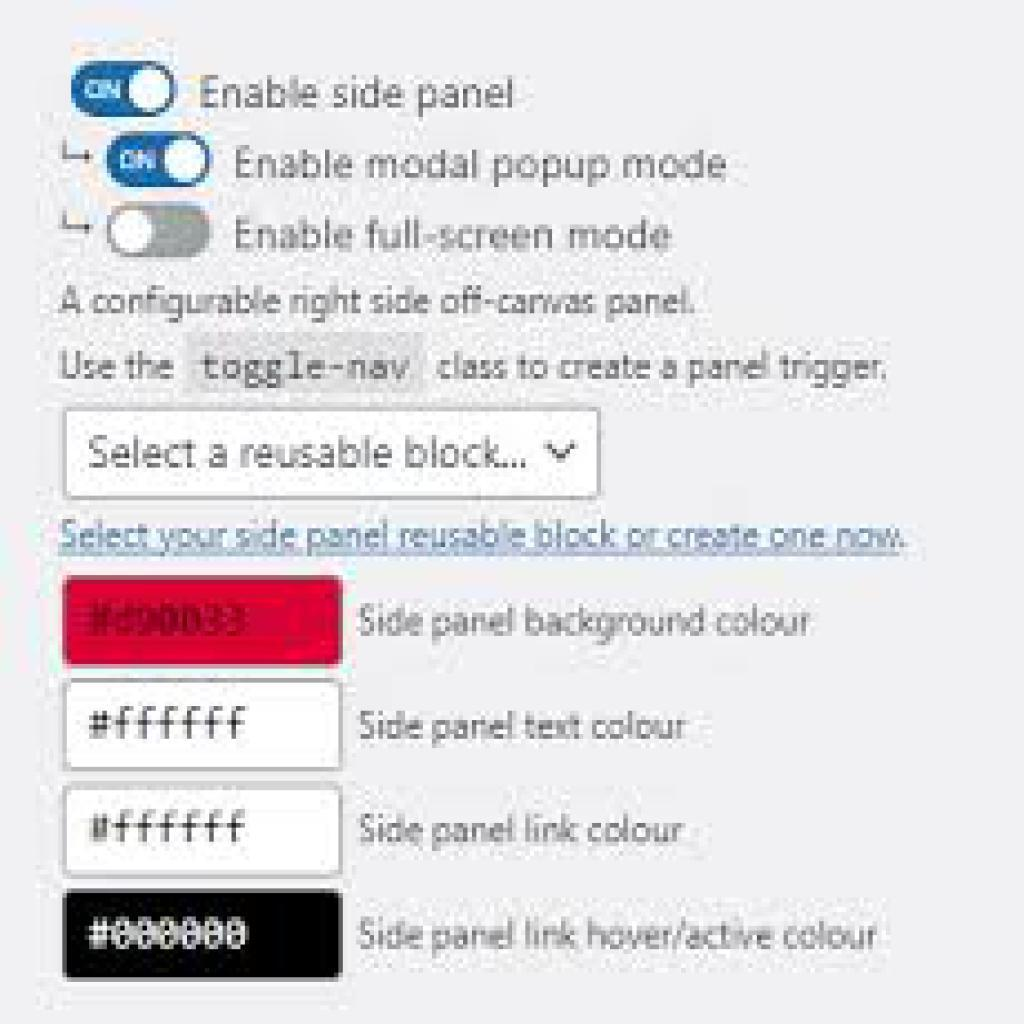button: (62, 577, 344, 667), (64, 890, 341, 981)
dropdown: (65, 410, 599, 499)
input: (62, 784, 343, 876), (62, 678, 344, 769)
switch: (70, 60, 179, 120), (107, 201, 212, 261), (107, 133, 213, 189)
